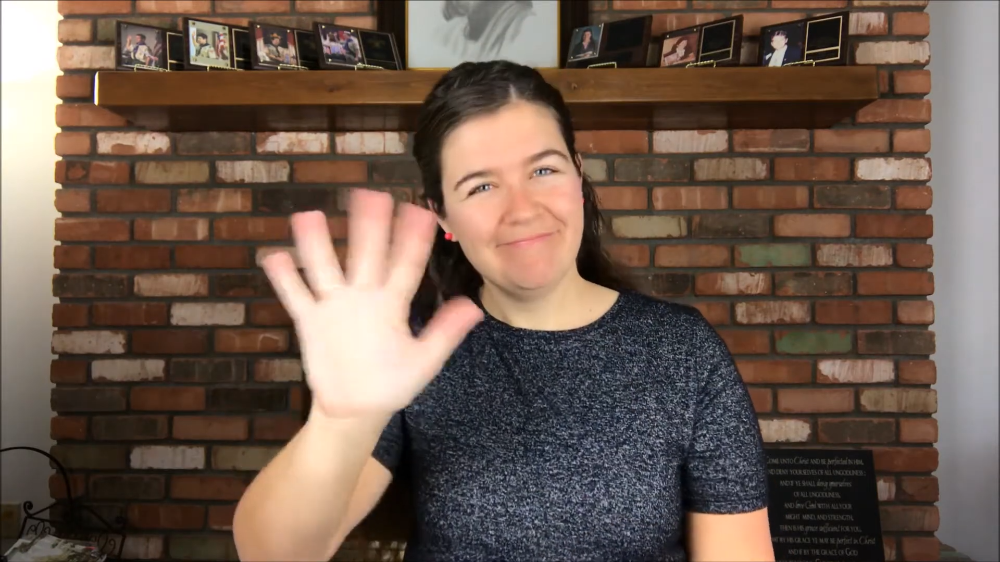hello: (259, 187, 482, 424)
